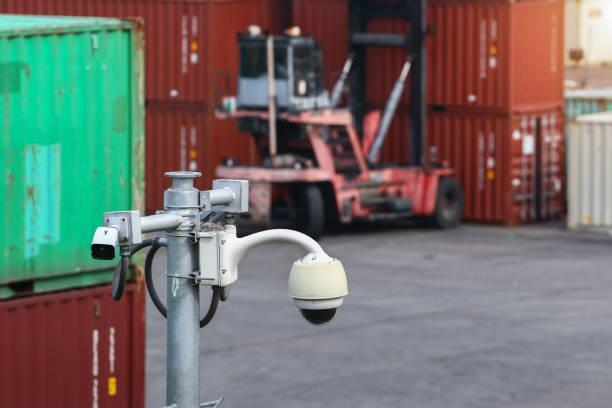camera: (278, 226, 361, 340), (66, 202, 140, 270)
